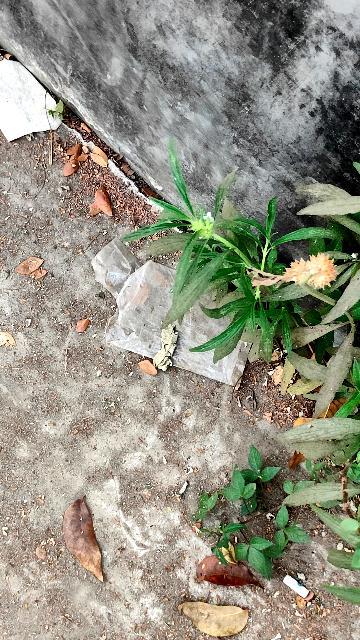polythene: (124, 250, 276, 378)
